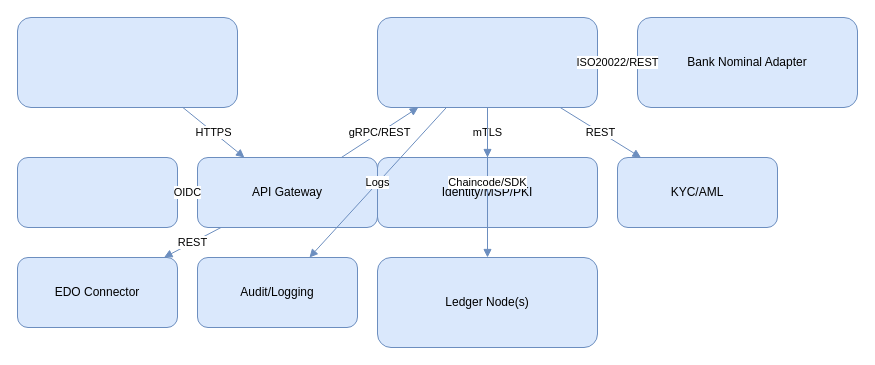
Image size: 875x365. Some labels were removed from this diagram. Here are the shapes that lost their labels. From the top down, the centre of each, then its label:
At (127,62): "Portal (Issuer/Investor)".
At (487,62): "Backoffice (Operator)".
At (97,192): "ESIA Adapter".
